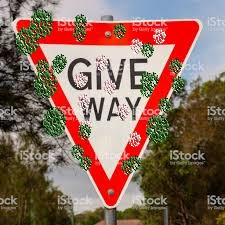giveway: (11, 14, 203, 211), (18, 36, 185, 184), (12, 16, 116, 184), (94, 18, 198, 155)
